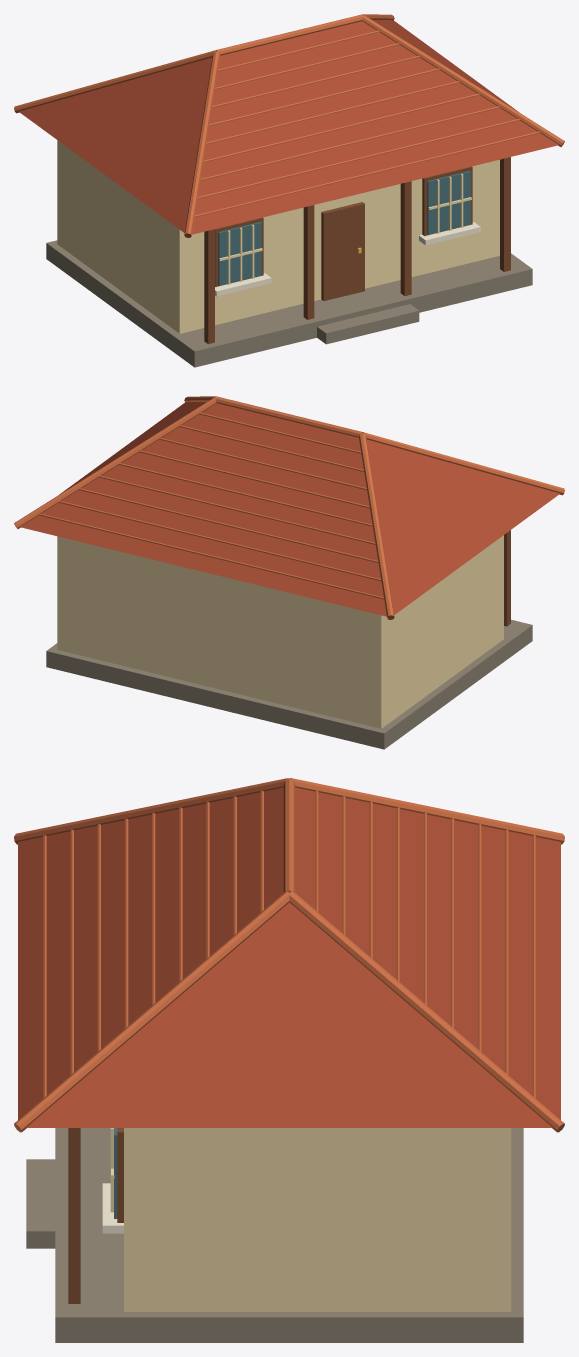
The model's file is Verandah_House.glb.
The picture shows the model from 3 angles, top to bottom: view 1: azimuth 30°, elevation 25°; view 2: azimuth 150°, elevation 25°; view 3: azimuth 270°, elevation 25°; orthographic projection. The views are drawn at different scales.
Parts seen in each view (by area): view 1: Verandah_House; view 2: Verandah_House; view 3: Verandah_House.
Part boxes in pixels (x1,y1,x2,y2): Verandah_House: (14, 14, 564, 367); Verandah_House: (14, 396, 564, 749); Verandah_House: (14, 778, 564, 1342).
Bounding box in the file's own units: 9.38 × 5.65 × 7.46.
